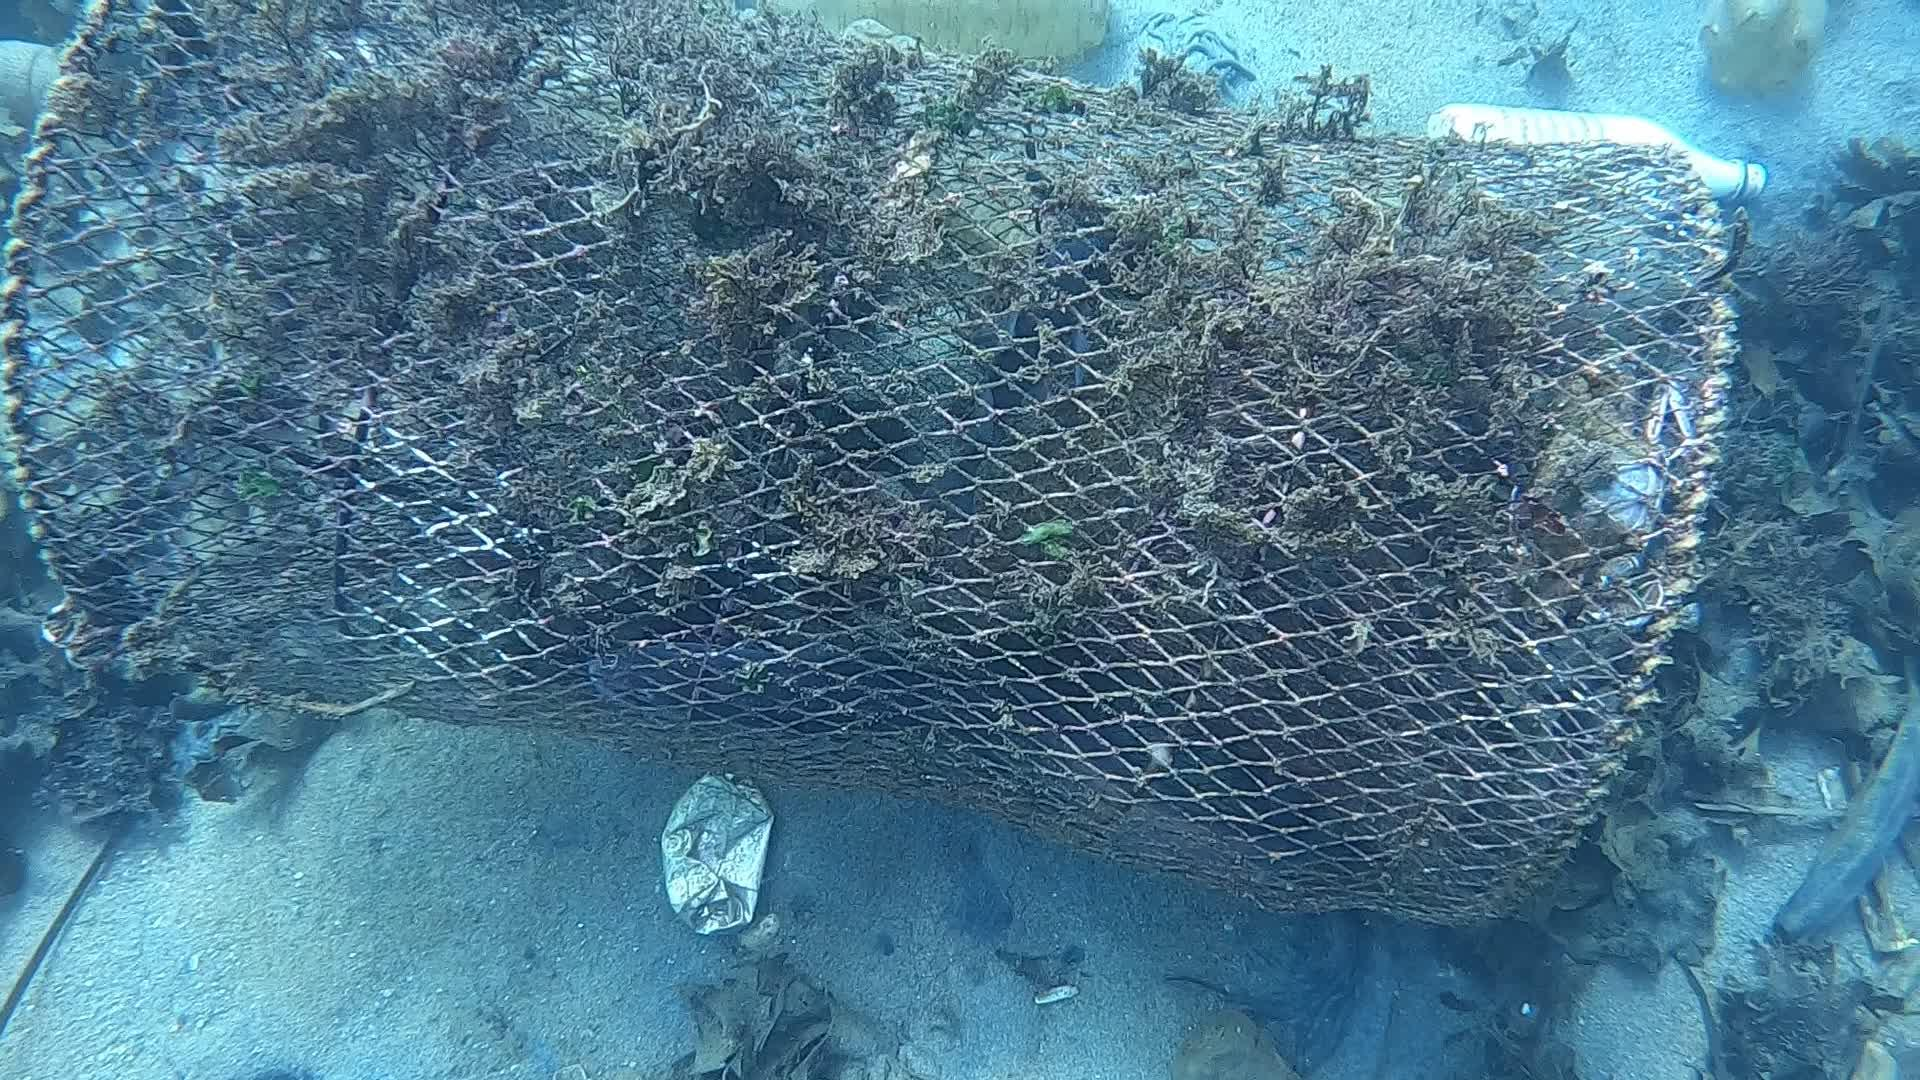spring fish trap: (0, 0, 1739, 938)
